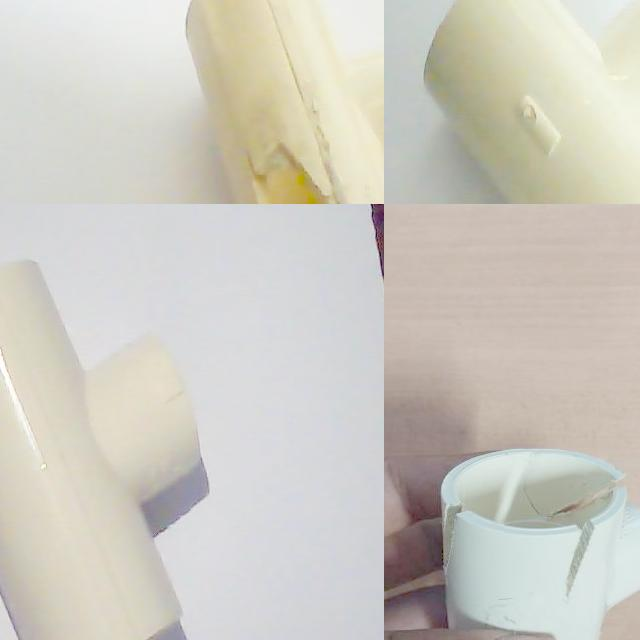Defective: (546, 516, 632, 612), (242, 143, 370, 204), (577, 460, 640, 530), (435, 504, 504, 564)
T Joint: (0, 260, 211, 640), (422, 0, 640, 204), (184, 0, 384, 204)
